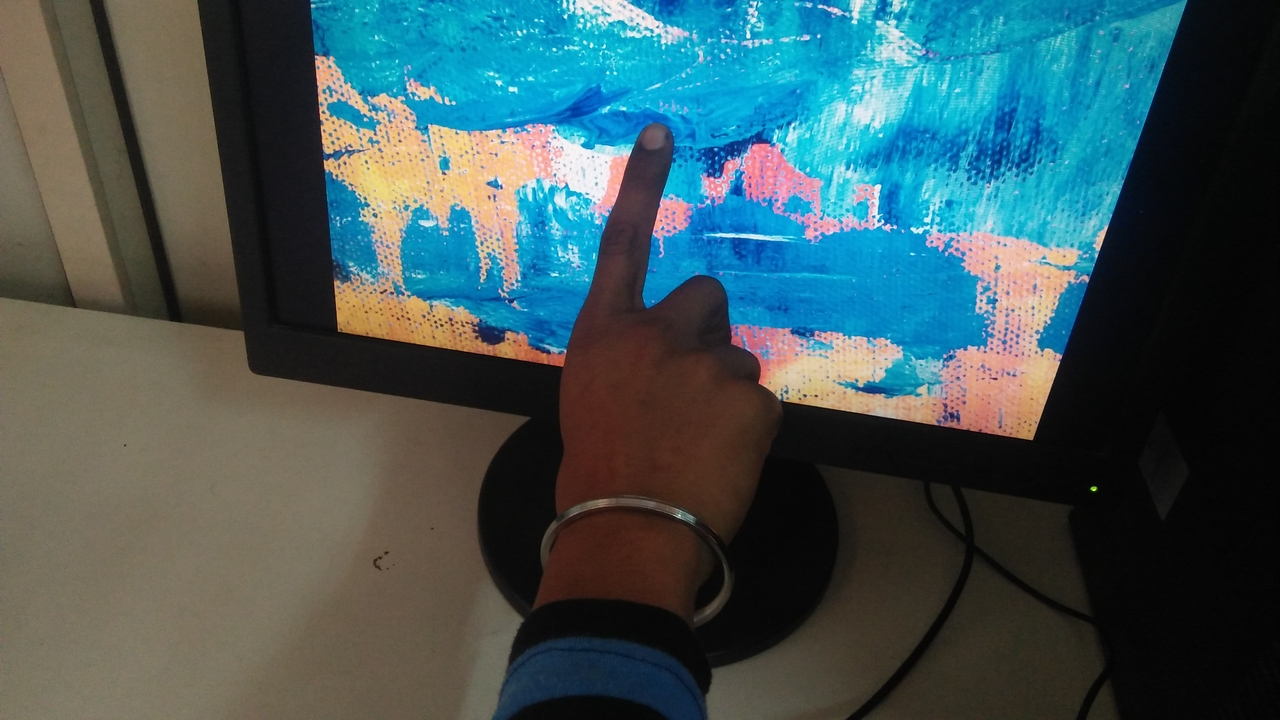fingertip: (622, 114, 678, 164)
